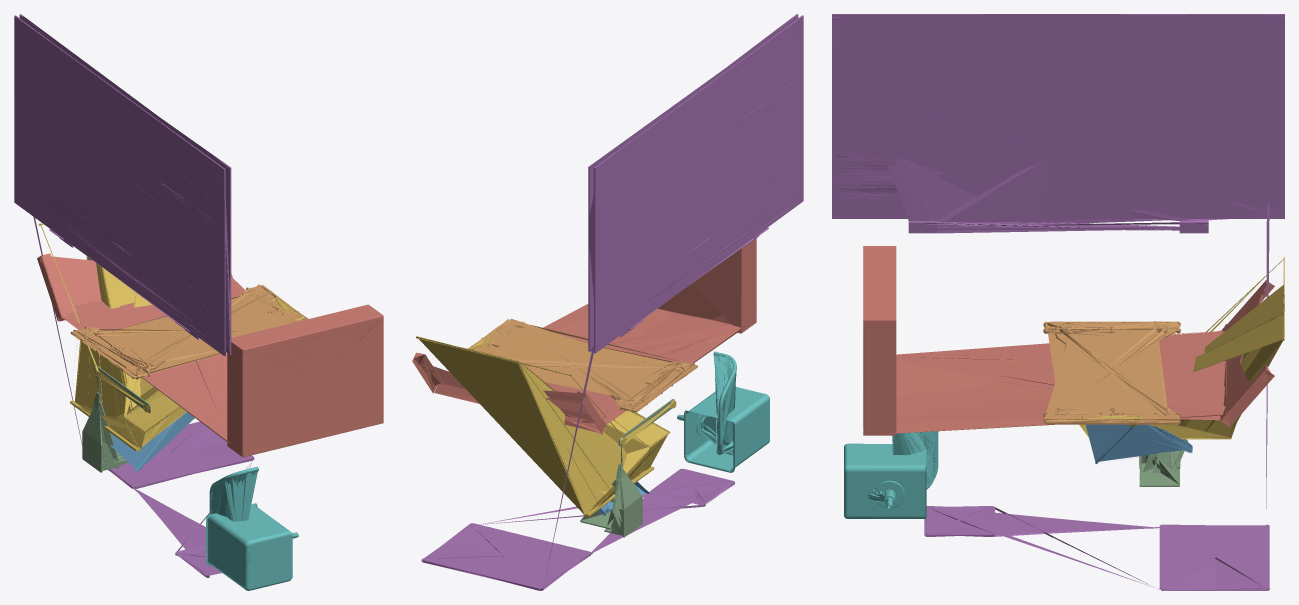
The model's file is conjunto-armado.glb.
3 renders of one model, left to right at view 1: azimuth 30°, elevation 25°; view 2: azimuth 150°, elevation 25°; view 3: azimuth 270°, elevation 25°, orthographic. The views are drawn at different scales.
Parts seen in each view (by area): view 1: puerta, cajon, electrica, bandejas, rotacion, contrafondo, transmision; view 2: puerta, rotacion, cajon, bandejas, electrica, contrafondo; view 3: puerta, cajon, bandejas, electrica, rotacion, transmision, contrafondo.
Part boxes in pixels (x1=…): puerta: x1=14, y1=14, x2=254, y2=577; cajon: x1=37, y1=253, x2=383, y2=457; electrica: x1=206, y1=466, x2=298, y2=590; bandejas: x1=70, y1=284, x2=307, y2=379; rotacion: x1=38, y1=223, x2=303, y2=451; contrafondo: x1=82, y1=366, x2=150, y2=472; transmision: x1=110, y1=411, x2=194, y2=471; puerta: x1=421, y1=14, x2=803, y2=590; rotacion: x1=416, y1=331, x2=676, y2=516; cajon: x1=412, y1=238, x2=756, y2=434; bandejas: x1=468, y1=319, x2=697, y2=412; electrica: x1=677, y1=351, x2=769, y2=472; contrafondo: x1=580, y1=399, x2=674, y2=537; puerta: x1=832, y1=14, x2=1284, y2=590; cajon: x1=863, y1=246, x2=1274, y2=435; bandejas: x1=1043, y1=321, x2=1180, y2=424; electrica: x1=844, y1=431, x2=938, y2=521; rotacion: x1=1079, y1=257, x2=1284, y2=439; transmision: x1=1086, y1=414, x2=1192, y2=464; contrafondo: x1=1139, y1=439, x2=1188, y2=486.
Size of the model in its own units: 544 by 1161 by 991.
